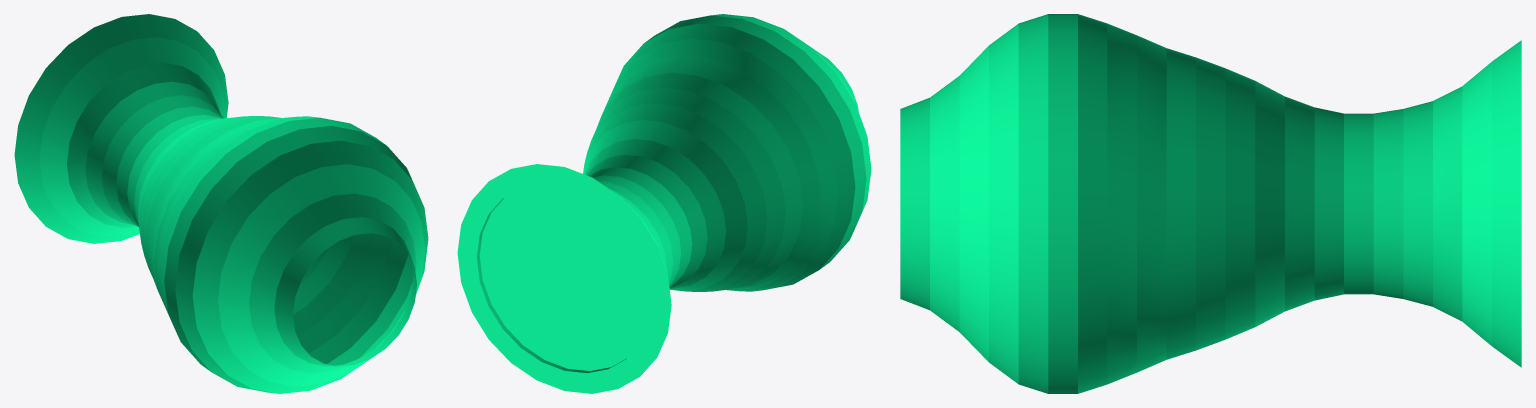
Rendered from model_scale.obj.
3 renders of one model, left to right at view 1: azimuth 30°, elevation 25°; view 2: azimuth 150°, elevation 25°; view 3: azimuth 270°, elevation 25°, orthographic. The views are drawn at different scales.
Visible parts, largest first — view 1: mesh1_mesh1-geometry; view 2: mesh1_mesh1-geometry; view 3: mesh1_mesh1-geometry.
Part boxes in pixels (x1=…): mesh1_mesh1-geometry: x1=14, y1=14, x2=428, y2=393; mesh1_mesh1-geometry: x1=457, y1=14, x2=871, y2=393; mesh1_mesh1-geometry: x1=900, y1=14, x2=1521, y2=393.
Bounding box in the file's own units: 0.0776 × 0.0776 × 0.1265.
